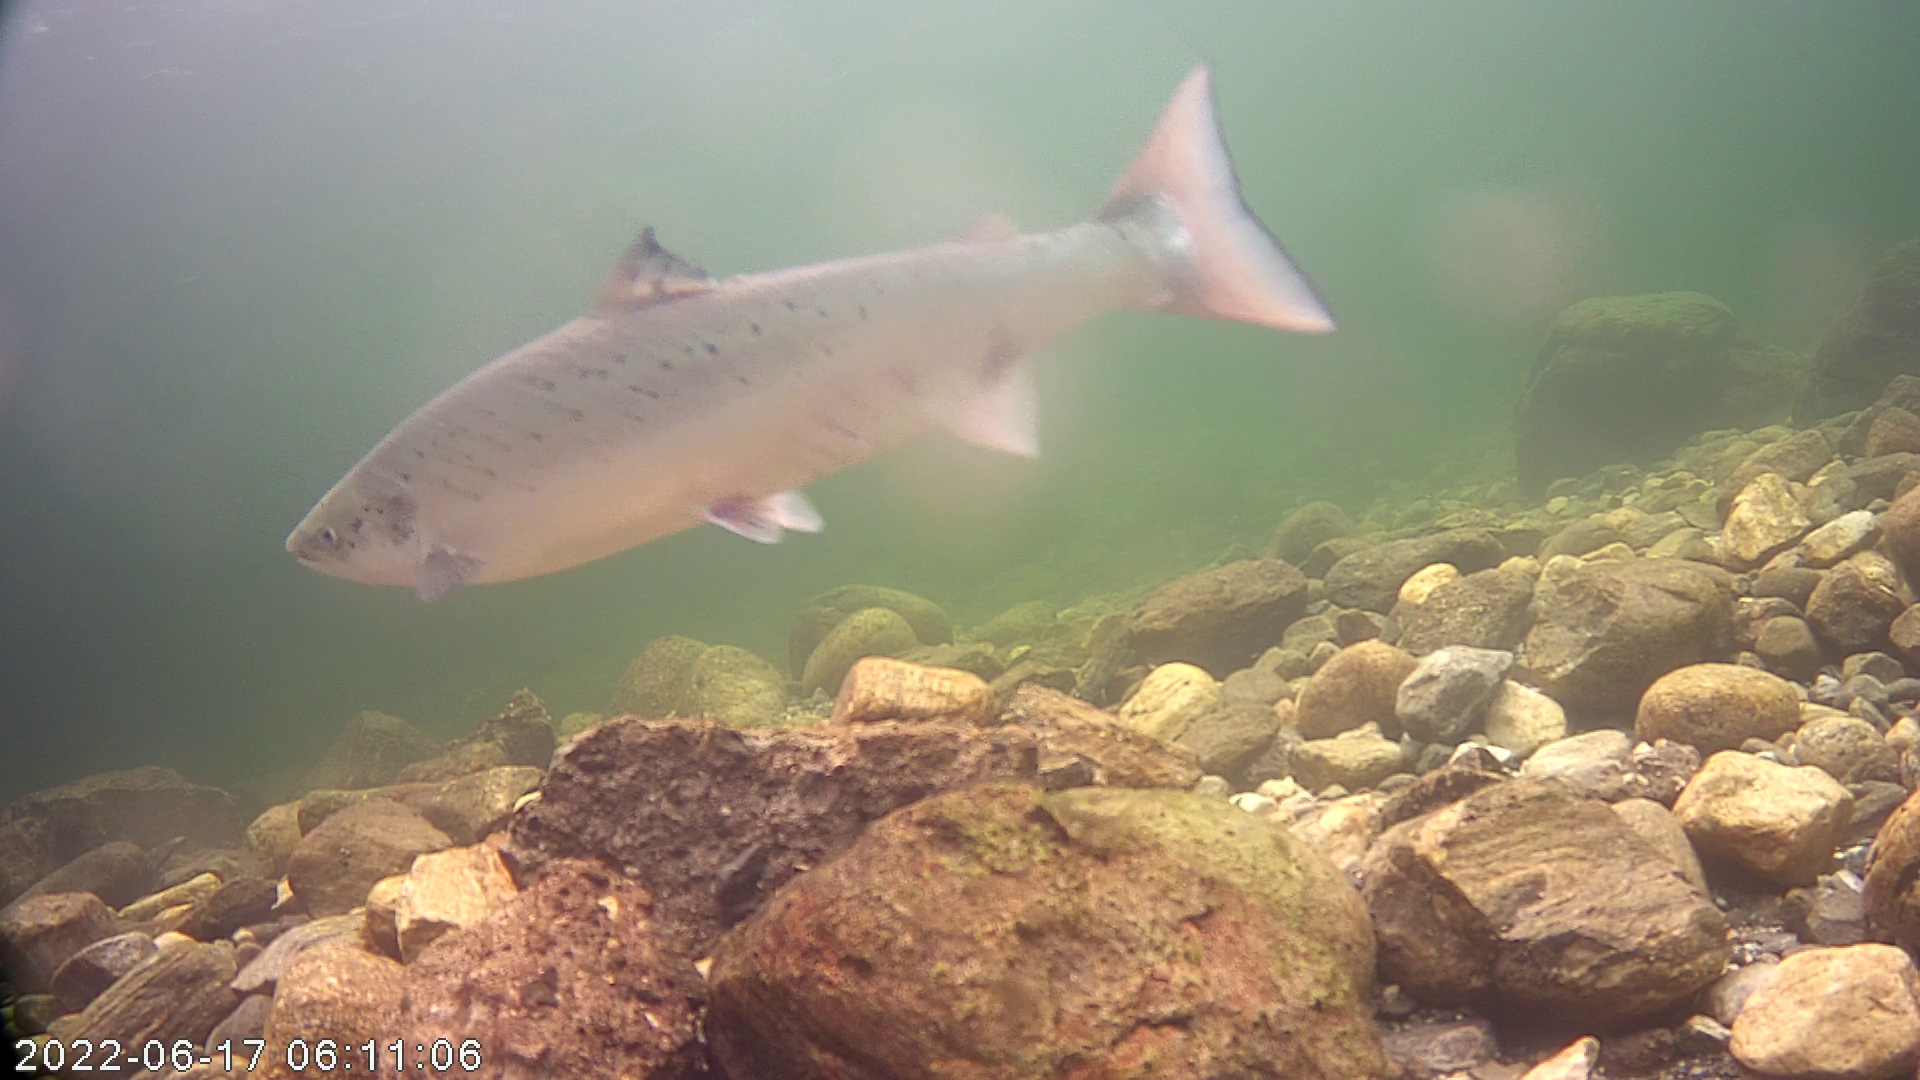salmon: (280, 51, 1342, 603)
